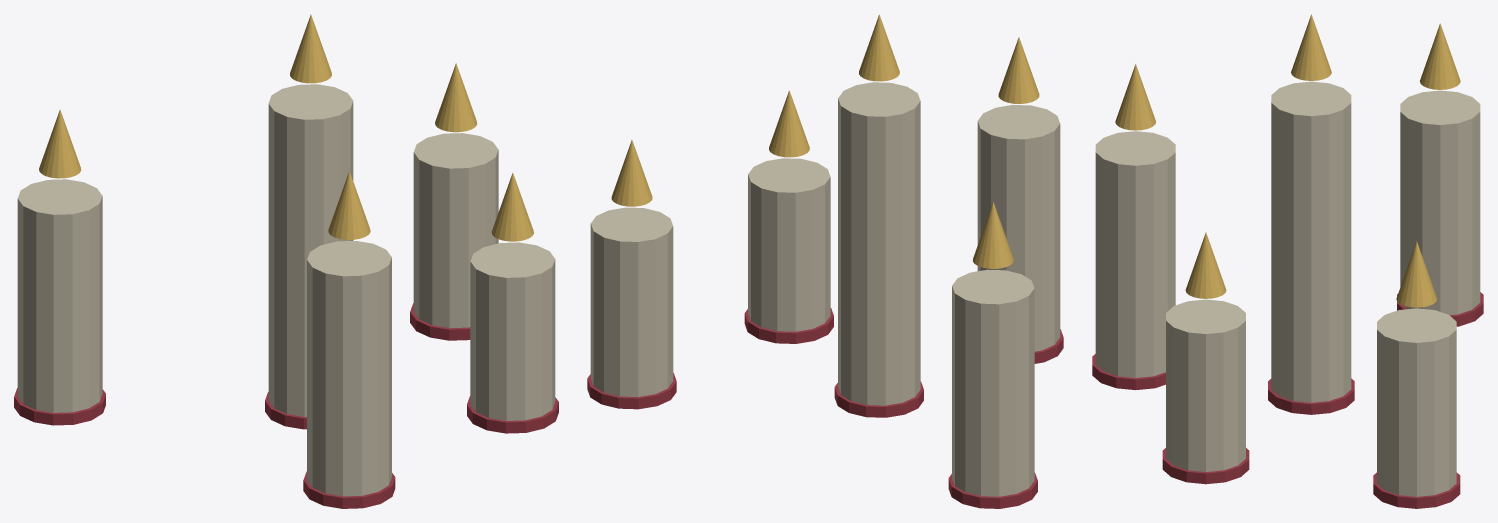
The model's file is CandleCluster_Ritual.glb.
The picture shows the model from 3 angles, left to right: view 1: azimuth 30°, elevation 25°; view 2: azimuth 150°, elevation 25°; view 3: azimuth 270°, elevation 25°; orthographic projection. The views are drawn at different scales.
Visible parts, largest first — view 1: Candle_3, Candle_0, Candle_1, Candle_2, Candle_4, Flame_4, Flame_0, Flame_2, Flame_3, Flame_1, BloodWax_2, BloodWax_3 (+3 smaller); view 2: Candle_1, Candle_0, Candle_4, Candle_3, Candle_2, Flame_4, Flame_1, Flame_2, Flame_3, Flame_0, BloodWax_0, BloodWax_1 (+2 smaller); view 3: Candle_1, Candle_3, Candle_0, Candle_4, Candle_2, Flame_3, Flame_4, Flame_0, Flame_2, Flame_1, BloodWax_4, BloodWax_2 (+3 smaller).
Boxes of the visible parts, bbox=[...] form: Candle_3: bbox=[307, 241, 391, 496]; Candle_0: bbox=[17, 179, 102, 412]; Candle_1: bbox=[268, 84, 353, 416]; Candle_2: bbox=[470, 242, 555, 420]; Candle_4: bbox=[413, 133, 498, 328]; Flame_4: bbox=[435, 63, 477, 132]; Flame_0: bbox=[39, 109, 81, 178]; Flame_2: bbox=[491, 172, 533, 241]; Flame_3: bbox=[328, 171, 370, 239]; Flame_1: bbox=[290, 14, 331, 83]; BloodWax_2: bbox=[467, 396, 558, 433]; BloodWax_3: bbox=[303, 471, 395, 508]; Candle_1: bbox=[838, 82, 920, 405]; Candle_0: bbox=[952, 269, 1034, 496]; Candle_4: bbox=[590, 207, 673, 396]; Candle_3: bbox=[977, 105, 1060, 351]; Candle_2: bbox=[748, 158, 830, 331]; Flame_4: bbox=[611, 140, 652, 206]; Flame_1: bbox=[859, 14, 899, 81]; Flame_2: bbox=[769, 90, 809, 157]; Flame_3: bbox=[998, 37, 1039, 103]; Flame_0: bbox=[973, 202, 1013, 268]; BloodWax_0: bbox=[948, 472, 1037, 508]; BloodWax_1: bbox=[834, 381, 923, 417]; Candle_1: bbox=[1271, 81, 1351, 402]; Candle_3: bbox=[1095, 131, 1175, 377]; Candle_0: bbox=[1400, 90, 1480, 315]; Candle_4: bbox=[1377, 308, 1456, 496]; Candle_2: bbox=[1166, 299, 1245, 471]; Flame_3: bbox=[1115, 64, 1155, 130]; Flame_4: bbox=[1396, 241, 1437, 307]; Flame_0: bbox=[1420, 23, 1460, 89]; Flame_2: bbox=[1185, 232, 1226, 298]; Flame_1: bbox=[1291, 14, 1331, 80]; BloodWax_4: bbox=[1373, 472, 1460, 508]; BloodWax_2: bbox=[1162, 448, 1249, 484].
Size of the model in its own units: 0.882 by 0.72 by 0.6682.
